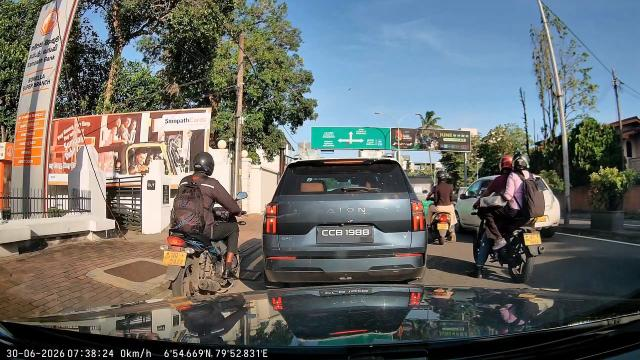illegal overtaking: (157, 152, 253, 309)
number plate: (161, 249, 193, 274)
